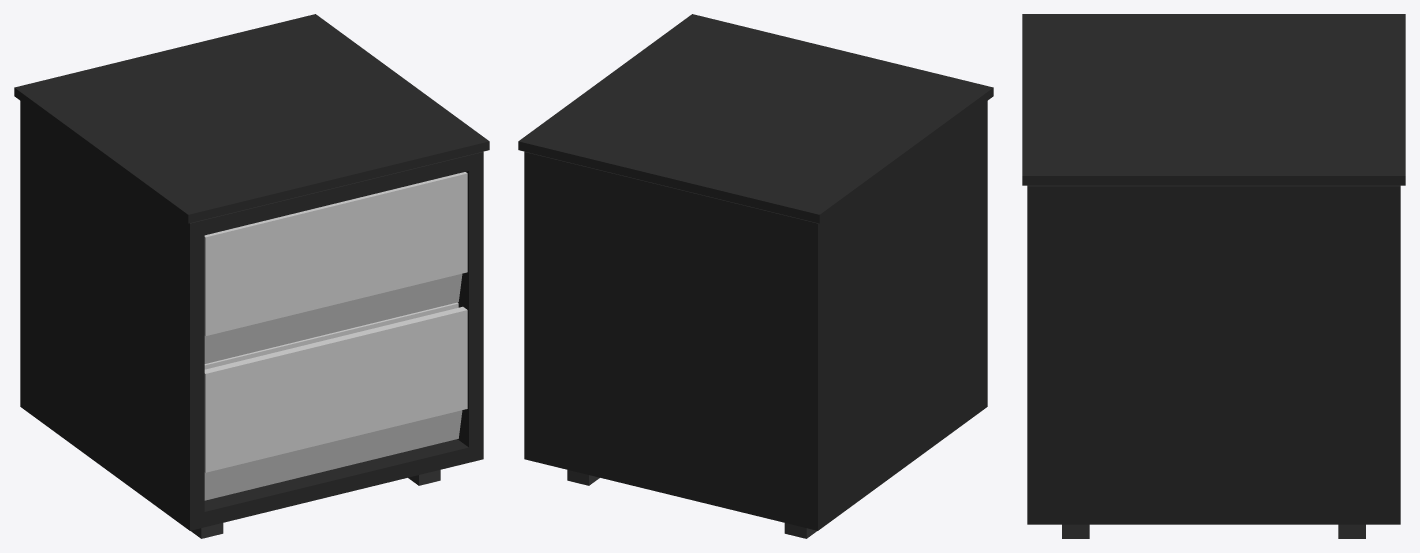
3 renders of one model, left to right at view 1: azimuth 30°, elevation 25°; view 2: azimuth 150°, elevation 25°; view 3: azimuth 270°, elevation 25°, orthographic. The views are drawn at different scales.
Visible parts, largest first — view 1: NightTable; view 2: NightTable; view 3: NightTable.
Boxes of the visible parts, <box> form: NightTable: <box>14,14,489,538</box>; NightTable: <box>518,14,993,538</box>; NightTable: <box>1022,14,1405,538</box>.
Size of the model in its own units: 0.5542 by 0.6059 by 0.5542.
1 material, 1 textured.
